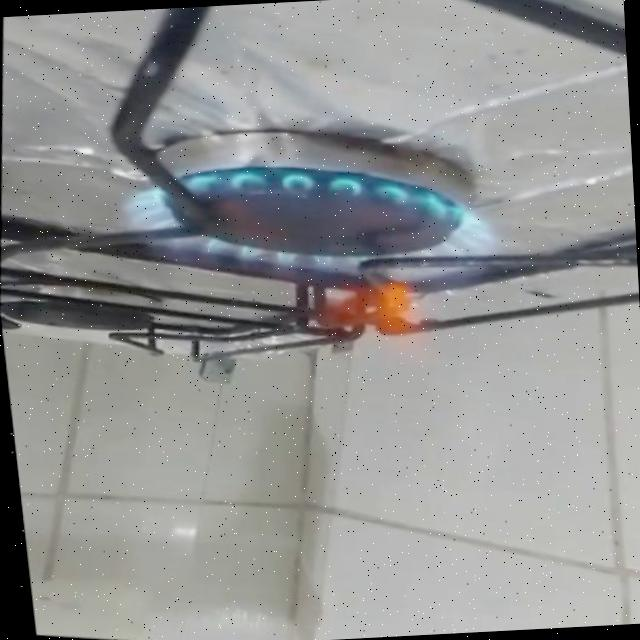fire: (87, 133, 523, 393)
